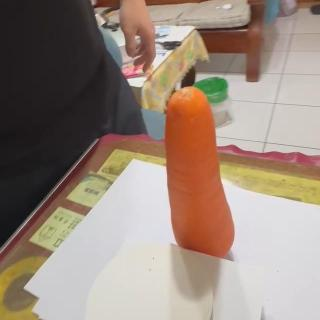carrot: (163, 87, 234, 256)
